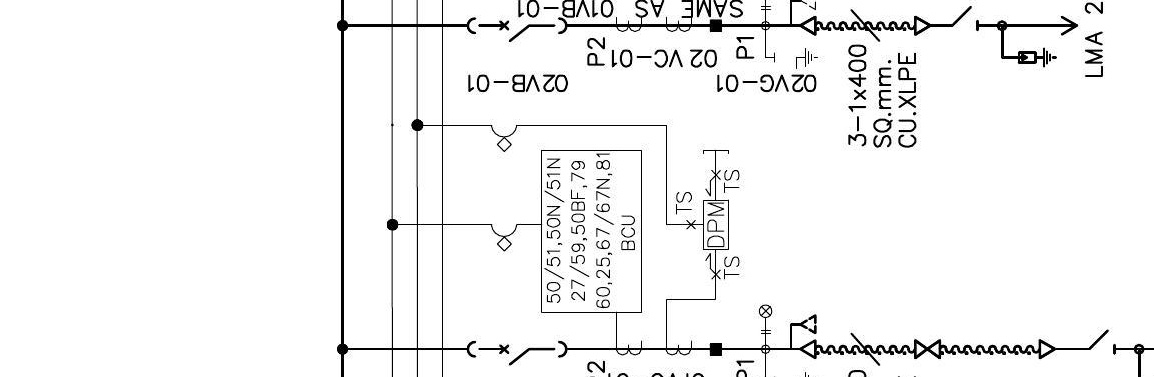22_breaker: (466, 339, 569, 367), (466, 16, 568, 43)
22_ds_la_out: (951, 5, 1079, 68)
22_gs: (773, 47, 818, 71)
22_ll: (758, 304, 773, 335)
DPM: (702, 198, 730, 252)
terminator_single: (913, 14, 932, 37), (1037, 337, 1056, 360)
terminator_splicing_kits: (913, 339, 941, 360)
terminator_w_future: (788, 313, 818, 360)
